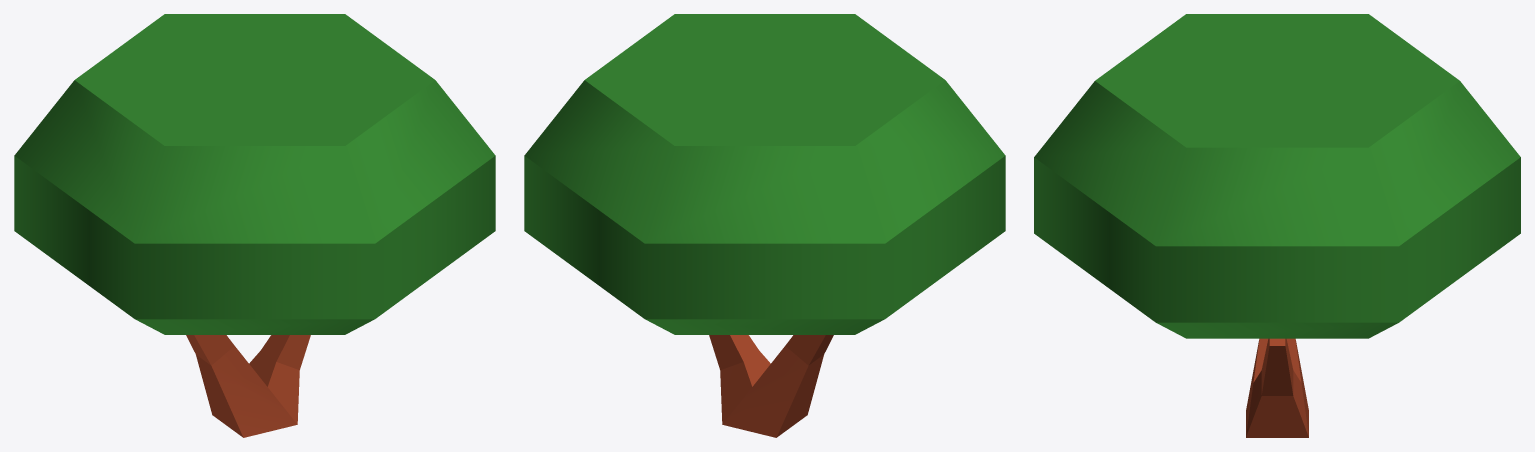
File: Folliage 3.obj
The picture shows the model from 3 angles, left to right: view 1: azimuth 30°, elevation 25°; view 2: azimuth 150°, elevation 25°; view 3: azimuth 270°, elevation 25°; orthographic projection.
Parts seen in each view (by area): view 1: mergedBlocks; view 2: mergedBlocks; view 3: mergedBlocks.
Boxes of the visible parts, <box> form: mergedBlocks: <box>14,14,495,437</box>; mergedBlocks: <box>524,14,1005,437</box>; mergedBlocks: <box>1034,14,1520,437</box>.
Bounding box in the file's own units: 1 × 0.9 × 1.15.
